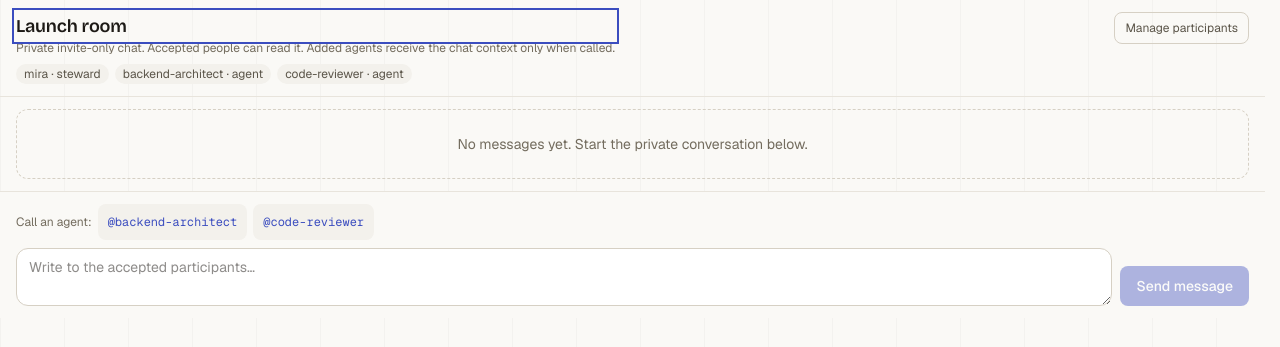
Test: sending › takes the message back into the box when the POST fails
The width and height of the screenshot is (1280, 347).
Expected: the heading "Launch room" is shown, [16,15,127,37]
Type "ship it" into the text box named "Message Launch room" at {"x": 564, "y": 277}, box [16,248,1112,306]
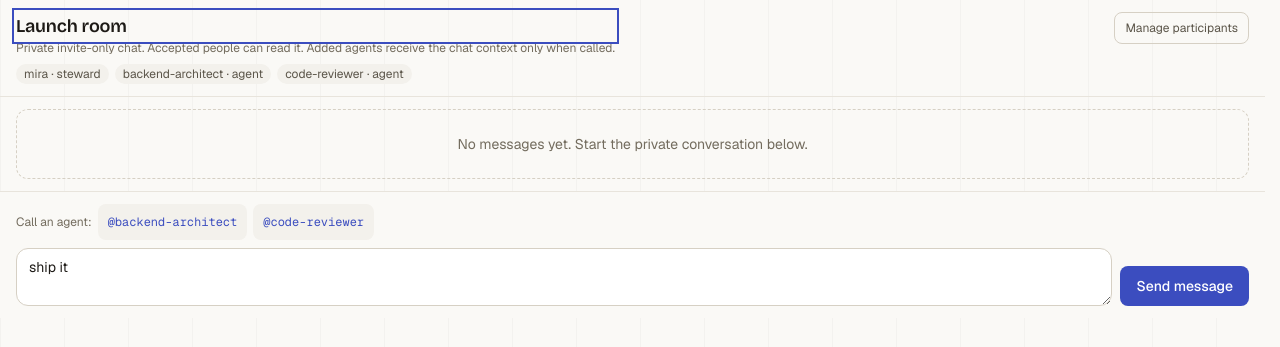
Press Enter in the text box named "Message Launch room", box [16,248,1112,306]
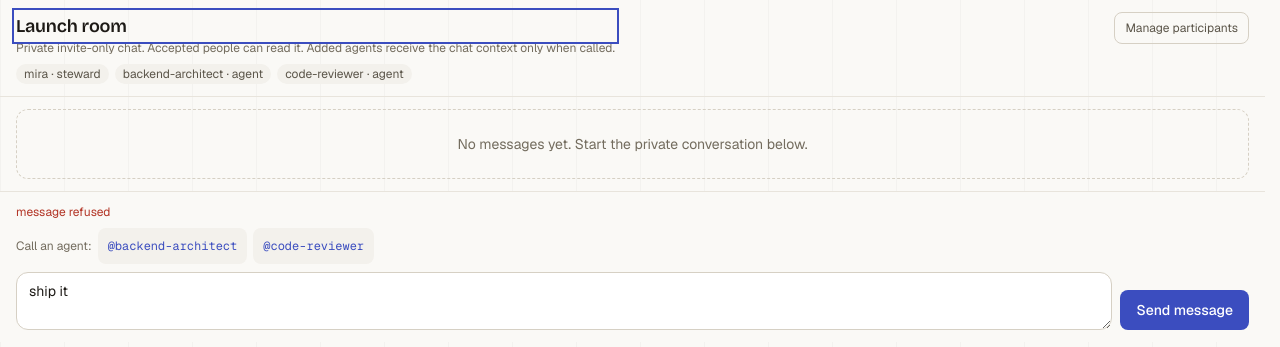
Expected: the message reads "message refused", [16,204,110,220]
